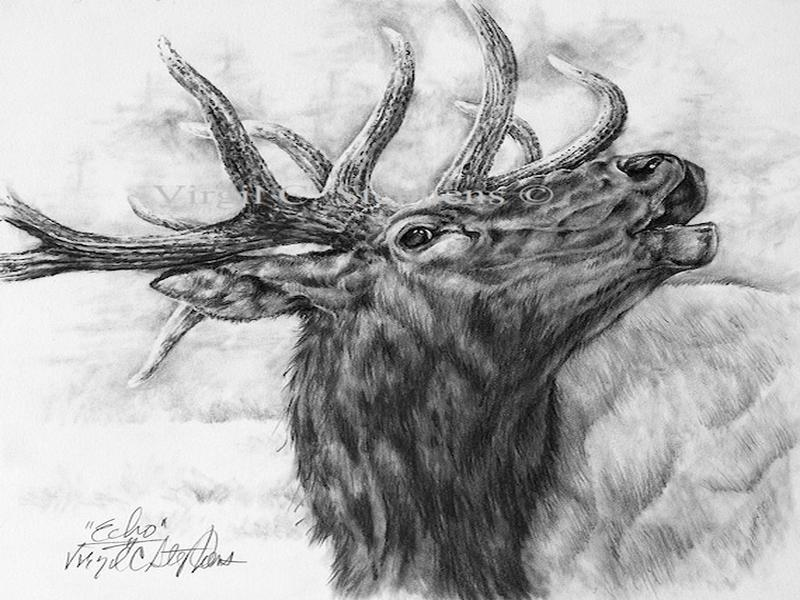elk: (6, 32, 800, 600)
